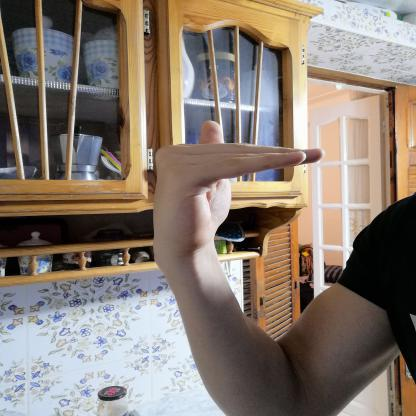KHAA: (134, 112, 338, 258)
